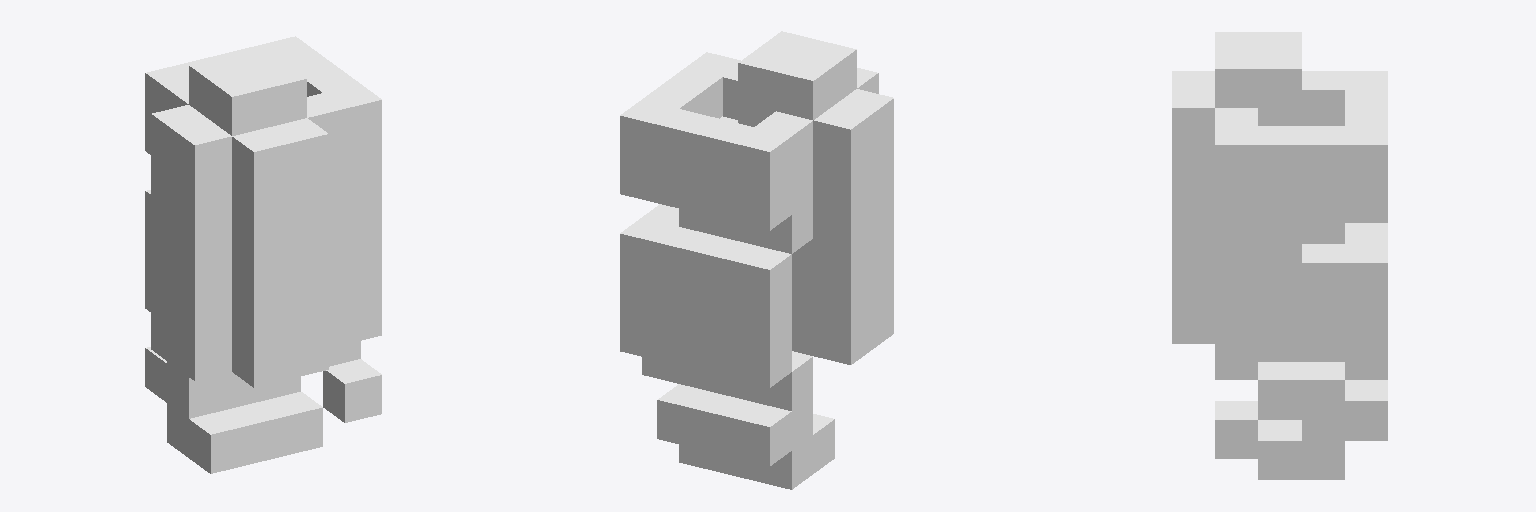
The model's file is Mecha01_left_hand.obj.
3 views of the same model, side by side, from view 1: azimuth 30°, elevation 25°; view 2: azimuth 150°, elevation 25°; view 3: azimuth 270°, elevation 25° (orthographic).
Parts seen in each view (by area): view 1: object 1; view 2: object 1; view 3: object 1.
Part boxes in pixels (x1,y1,x2,y2): object 1: (145, 36, 381, 473); object 1: (620, 31, 893, 489); object 1: (1172, 32, 1387, 479).
Bounding box in the file's own units: 0.5 × 1 × 0.5.